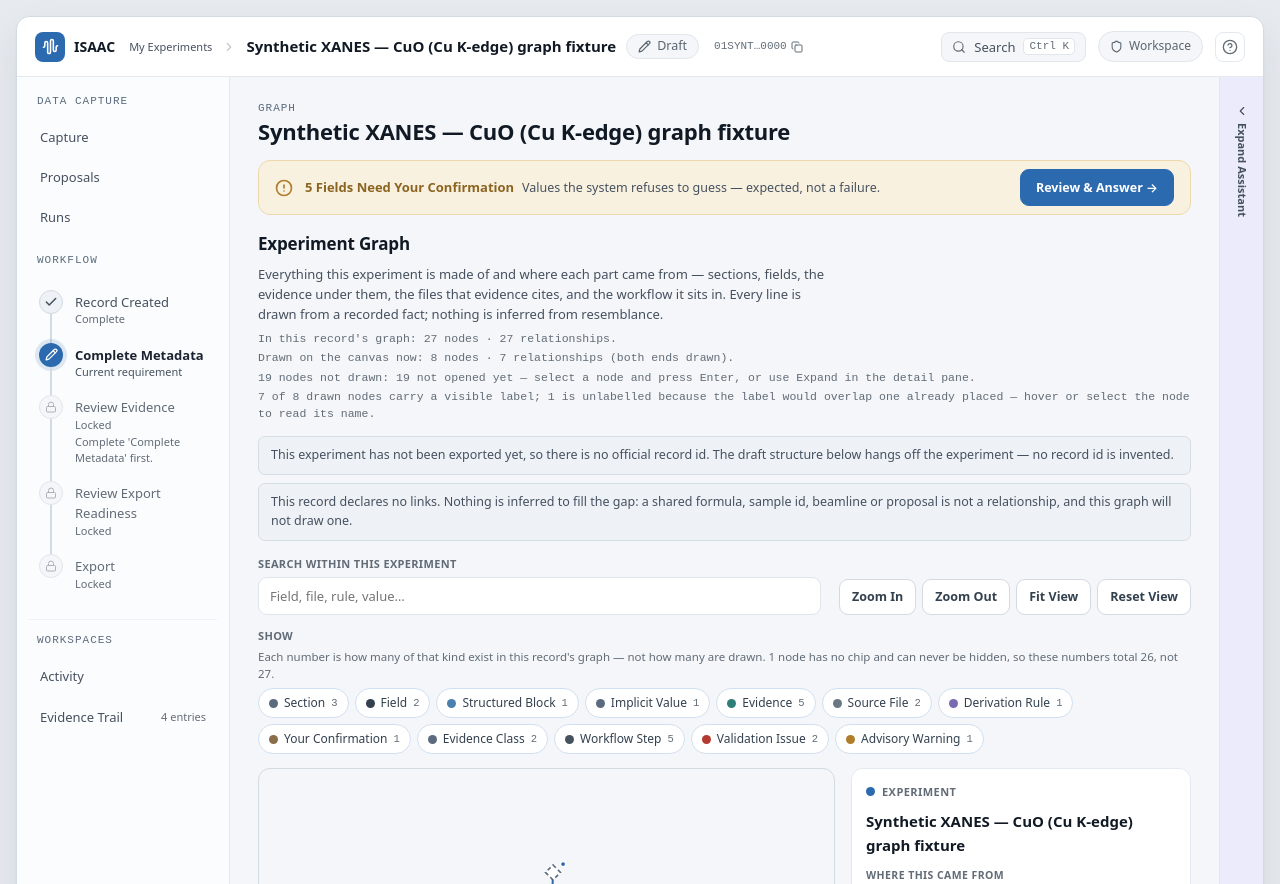
Scenario: search within this experiment › refuses a near match rather than offering one
This screenshot has width=1280, height=884.
Expected: the heading "Experiment Graph" is shown, 258,232 -> 410,255
Type "mock_campain" into the search field labelled "Search within this experiment". click: point(540, 596)
box: 258,576 -> 821,615
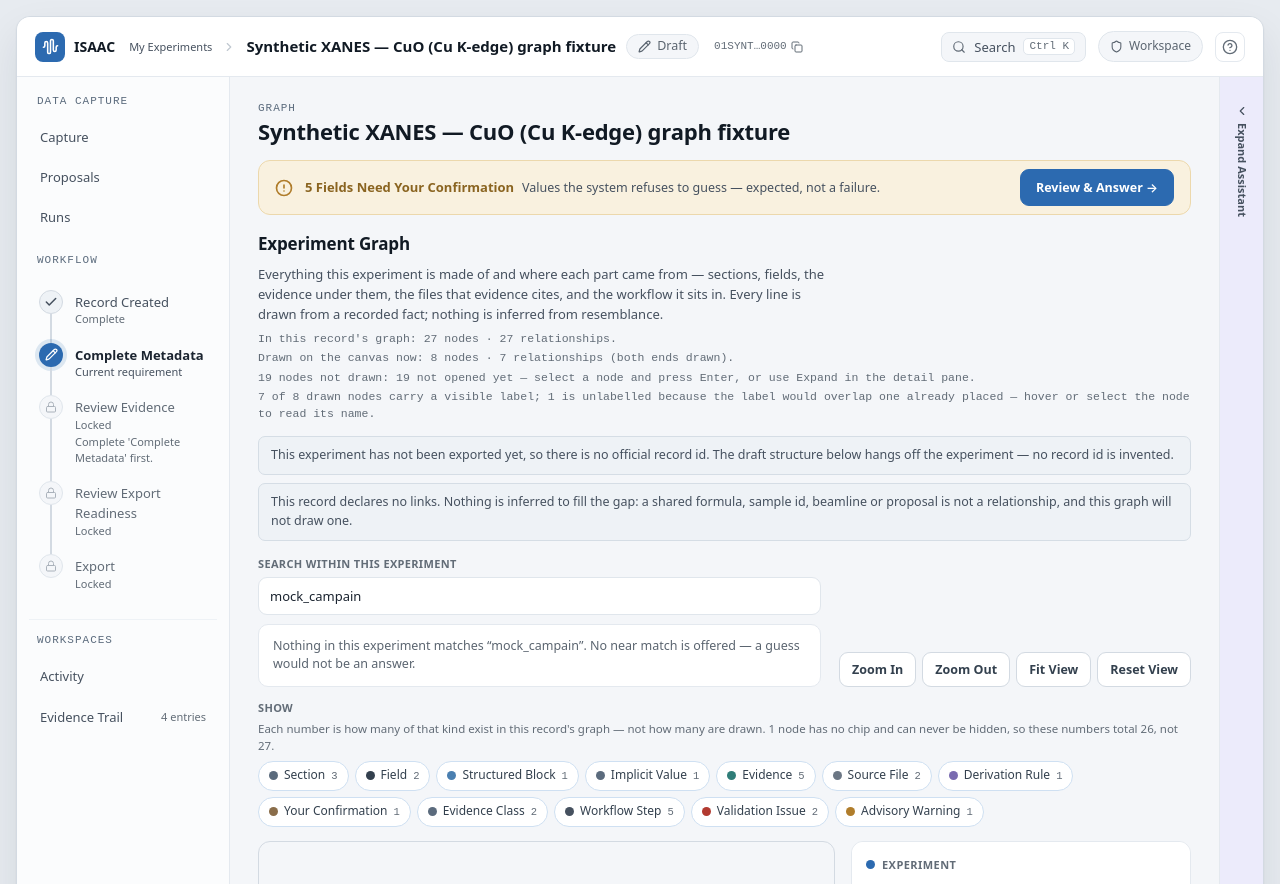
Expected: the text "No near match is offered" is shown, 273,637 -> 800,672
